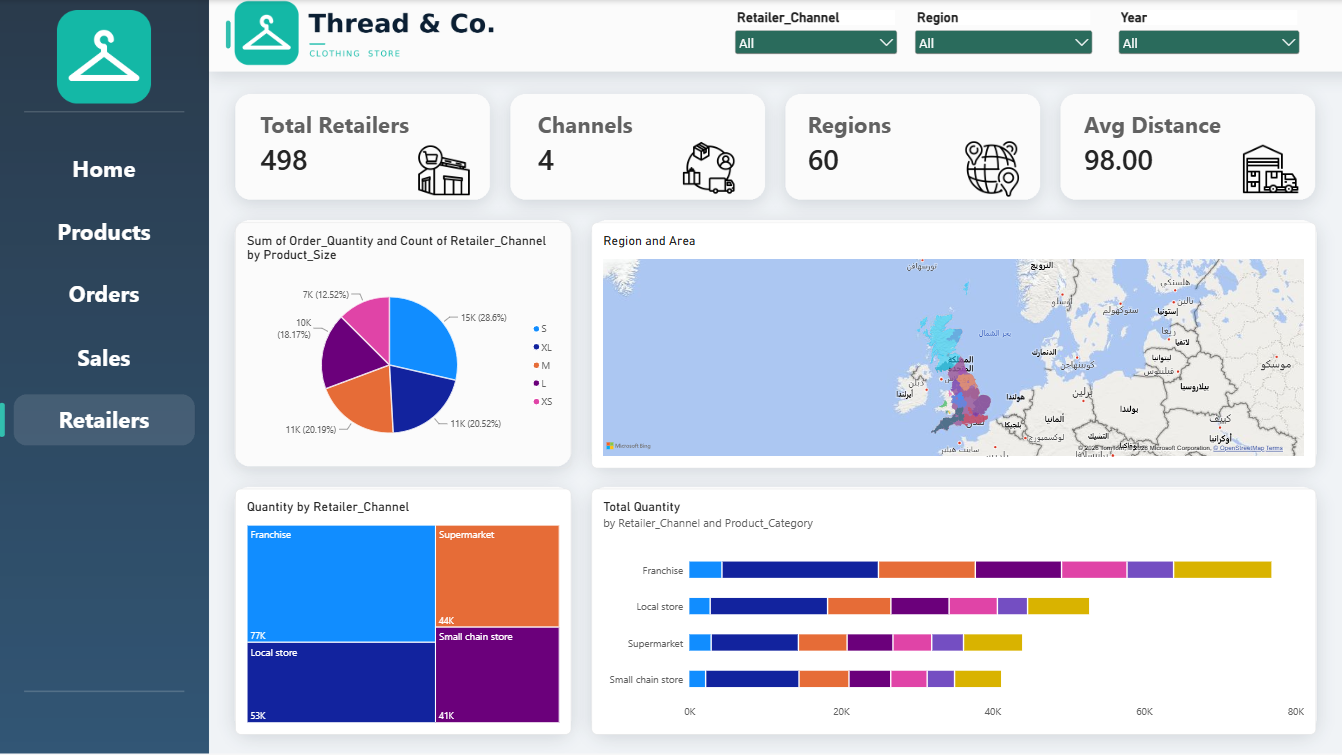

Layout of this report page (visuals, bound fields, positions):
{"tool":"powerbi","page":{"name":"Retailers","canvas":[1920,1080],"ordinal":4},"visuals":[{"type":"shape","box":[50,570,200,59],"z":0},{"type":"shape","box":[50,300,200,59],"z":1000},{"type":"shape","box":[50,480,200,59],"z":2000},{"type":"shape","box":[50,210,200,59],"z":3000},{"type":"slicer","fields":{"Values":["Calendar.Year"]},"box":[1594.3,14,268.1,81],"z":3001},{"type":"slicer","fields":{"Values":["Retailers.Region"]},"box":[1304.4,14,263.4,81],"z":3002},{"type":"slicer","fields":{"Values":["Retailers.Retailer_Channel"]},"box":[1045.7,14,241.6,81],"z":3003},{"type":"image","box":[50,14.3,200,133.9],"z":3005},{"type":"image","box":[335.7,0,371.4,94.6],"z":3006},{"type":"cardVisual","fields":{"Data":["Count(Retailers.Retailer_Name)"]},"box":[356.9,130.9,328.8,149.6],"z":3007},{"type":"cardVisual","fields":{"Data":["Count(Retailers.Retailer_Channel)"]},"box":[752.7,130.9,328.8,149.6],"z":3008},{"type":"cardVisual","fields":{"Data":["Count(Retailers.Region)"]},"box":[1139.2,130.9,328.8,149.6],"z":3009},{"type":"cardVisual","fields":{"Data":["Avg(Retailers.Distance_from_Warehouse)"]},"box":[1533.5,130.9,328.8,149.6],"z":3010},{"type":"image","box":[1771.9,201,90.4,79.5],"z":3011},{"type":"image","box":[1369.9,201,98.2,79.5],"z":3012},{"type":"image","box":[960,202.6,106,76.4],"z":3013},{"type":"image","box":[586,205.7,99.7,76.4],"z":3014},{"type":"filledMap","fields":{"Category":["Retailers.Region"],"Series":["Retailers.Area"]},"box":[847,318,1035,351],"z":3015},{"type":"pieChart","fields":{"Category":["Products.Product_Size"],"Y":["Sum(Orders. Order_Quantity )"]},"box":[337,318,480,351],"z":3016},{"type":"treemap","fields":{"Group":["Retailers.Retailer_Channel"],"Values":["Sum(Orders. Order_Quantity )"]},"box":[337,699,480,351],"z":3017},{"type":"barChart","fields":{"Category":["Retailers.Retailer_Channel"],"Series":["Products.Product_Category"],"Y":["Measures (3).Total Quantity"]},"box":[847,699,1035,351],"z":3018},{"type":"shape","box":[50,390,200,59],"z":4018}]}

Visuals, with their boxes on the page's 1920x1080 design canvas (x1, y1, x2, y2). These are canvas units, not pixel positions in the 1342x755 screenshot, which may show the page scaled, cropped or inside an application window:
shape: (50, 570, 250, 629)
shape: (50, 300, 250, 359)
shape: (50, 480, 250, 539)
shape: (50, 210, 250, 269)
slicer - Calendar.Year: (1594, 14, 1862, 95)
slicer - Retailers.Region: (1304, 14, 1568, 95)
slicer - Retailers.Retailer_Channel: (1046, 14, 1287, 95)
image: (50, 14, 250, 148)
image: (336, 0, 707, 95)
cardVisual - Count(Retailers.Retailer_Name): (357, 131, 686, 280)
cardVisual - Count(Retailers.Retailer_Channel): (753, 131, 1082, 280)
cardVisual - Count(Retailers.Region): (1139, 131, 1468, 280)
cardVisual - Avg(Retailers.Distance_from_Warehouse): (1534, 131, 1862, 280)
image: (1772, 201, 1862, 280)
image: (1370, 201, 1468, 280)
image: (960, 203, 1066, 279)
image: (586, 206, 686, 282)
filledMap - Retailers.Region x Retailers.Area: (847, 318, 1882, 669)
pieChart - Products.Product_Size x Sum(Orders. Order_Quantity ): (337, 318, 817, 669)
treemap - Retailers.Retailer_Channel x Sum(Orders. Order_Quantity ): (337, 699, 817, 1050)
barChart - Retailers.Retailer_Channel x Products.Product_Category: (847, 699, 1882, 1050)
shape: (50, 390, 250, 449)
